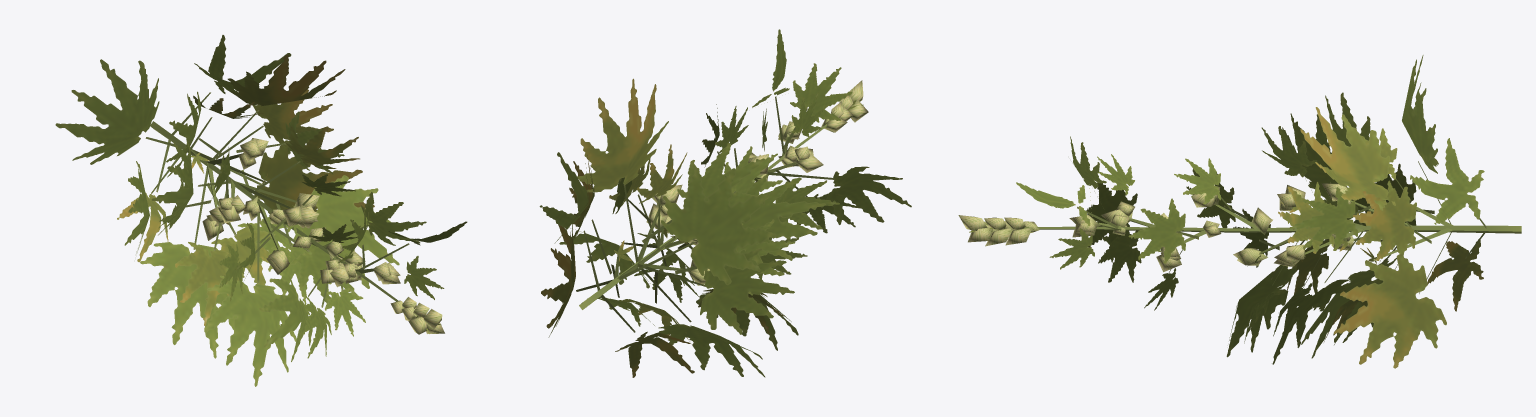
Rendered from p_male_haze_ripe_c1_cards.obj.
3 renders of one model, left to right at view 1: azimuth 30°, elevation 25°; view 2: azimuth 150°, elevation 25°; view 3: azimuth 270°, elevation 25°, orthographic.
Bounding box in the file's own units: 1.34 × 1.26 × 1.91.
1 material, 1 textured.
